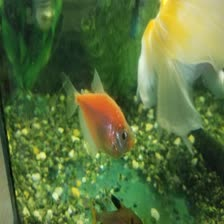Cuezo: (134, 0, 222, 141)
Plano: (53, 72, 139, 158)
